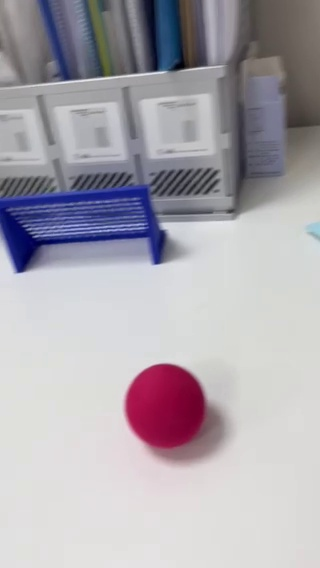goal: (0, 184, 165, 273)
redball: (122, 363, 206, 449)
